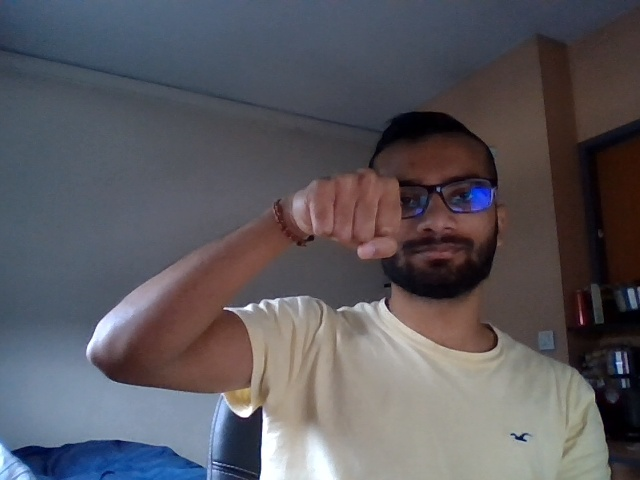Yes: (252, 150, 413, 275)
